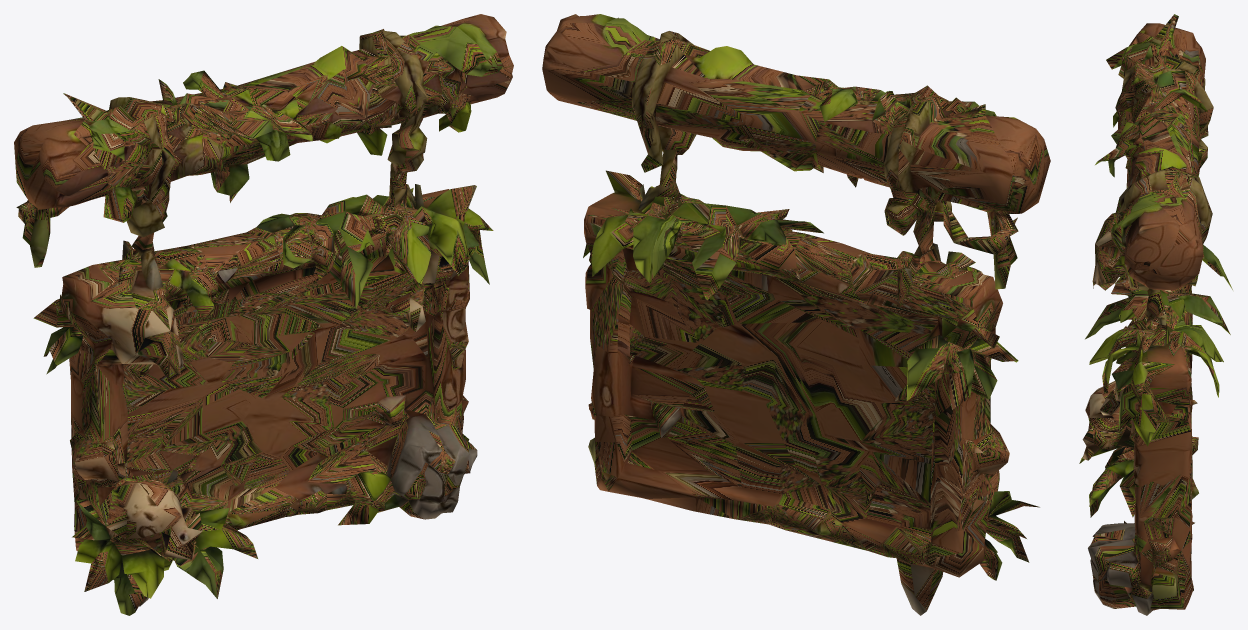
The model's file is jungle_ruin_sign_01.glb.
3 renders of one model, left to right at view 1: azimuth 30°, elevation 25°; view 2: azimuth 150°, elevation 25°; view 3: azimuth 270°, elevation 25°, orthographic. The views are drawn at different scales.
Visible parts, largest first — view 1: tripo_node_2f02522b-f91f-4305-ad09-348c83f65d35; view 2: tripo_node_2f02522b-f91f-4305-ad09-348c83f65d35; view 3: tripo_node_2f02522b-f91f-4305-ad09-348c83f65d35.
Boxes of the visible parts, x1,y1,x2,y2 form: tripo_node_2f02522b-f91f-4305-ad09-348c83f65d35: (14,14,513,615); tripo_node_2f02522b-f91f-4305-ad09-348c83f65d35: (542,14,1050,615); tripo_node_2f02522b-f91f-4305-ad09-348c83f65d35: (1079,14,1232,615).
Size of the model in its own units: 0.9316 by 0.9824 by 0.2862.
1 material, 1 textured.
